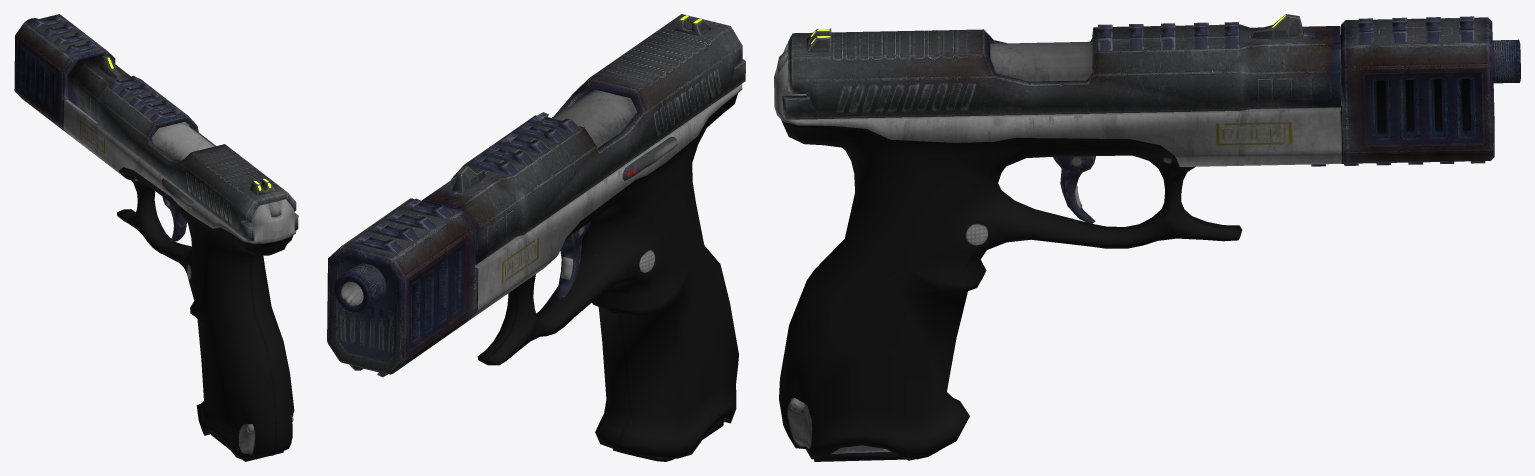
The model's file is gun9mm.glb.
The picture shows the model from 3 angles, left to right: view 1: azimuth 30°, elevation 25°; view 2: azimuth 150°, elevation 25°; view 3: azimuth 270°, elevation 25°; orthographic projection. The views are drawn at different scales.
Visible parts, largest first — view 1: Frame, Slide, Ejector, Trigger, SlideStop; view 2: Frame, Slide, Ejector, Trigger, SlideStop; view 3: Frame, Slide, Ejector, Trigger, Magazine.
Boxes of the visible parts, <box> form: Frame: <box>14,14,296,461</box>; Slide: <box>67,54,298,241</box>; Ejector: <box>152,122,214,160</box>; Trigger: <box>162,197,186,241</box>; SlideStop: <box>162,178,195,210</box>; Frame: <box>327,84,742,461</box>; Slide: <box>421,14,745,264</box>; Ejector: <box>553,89,636,147</box>; Trigger: <box>556,221,590,299</box>; SlideStop: <box>622,137,677,180</box>; Frame: <box>774,16,1520,460</box>; Slide: <box>782,14,1341,119</box>; Ejector: <box>990,41,1092,81</box>; Trigger: <box>1053,156,1095,223</box>; Magazine: <box>814,445,937,461</box>.
Size of the model in its own units: 0.1566 by 0.639 by 1.
1 material, 1 textured.
